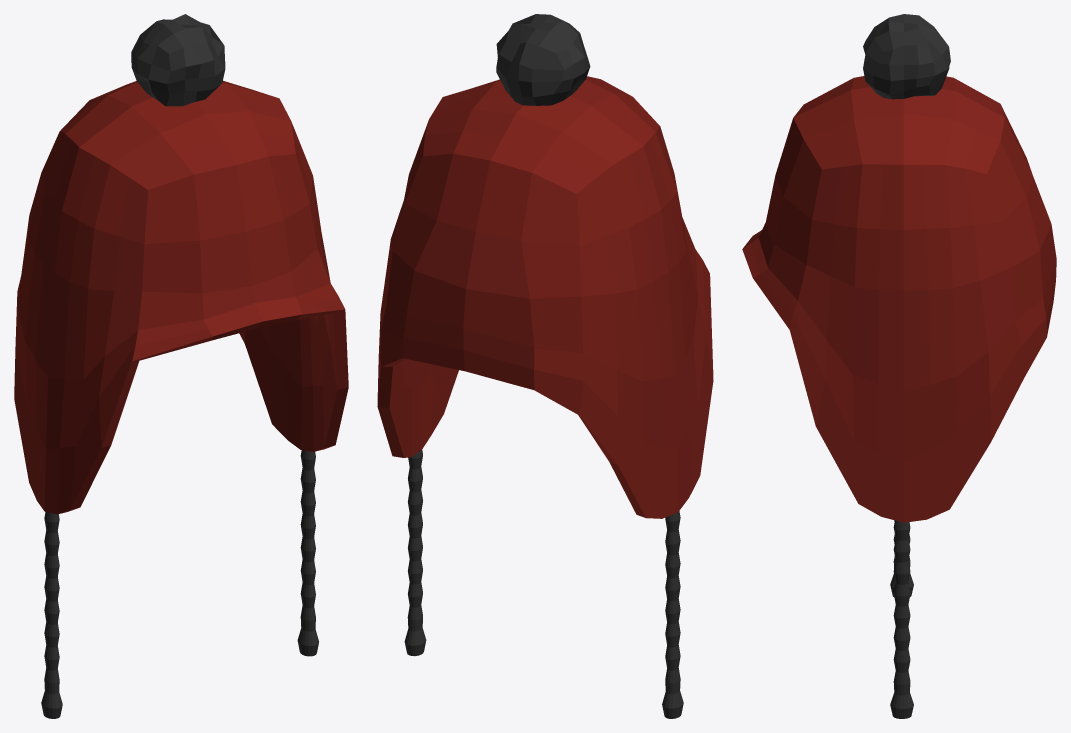
File: outfit_flap_beanie.glb
The picture shows the model from 3 angles, left to right: view 1: azimuth 30°, elevation 25°; view 2: azimuth 150°, elevation 25°; view 3: azimuth 270°, elevation 25°; orthographic projection. The views are drawn at different scales.
Visible parts, largest first — view 1: outfit_flap_beanie; view 2: outfit_flap_beanie; view 3: outfit_flap_beanie.
Part boxes in pixels (box(x1,y1,x2,y2)): outfit_flap_beanie: box(14, 14, 348, 718); outfit_flap_beanie: box(377, 14, 713, 718); outfit_flap_beanie: box(742, 14, 1056, 718).
Bounding box in the file's own units: 0.1299 × 0.3 × 0.1346.
